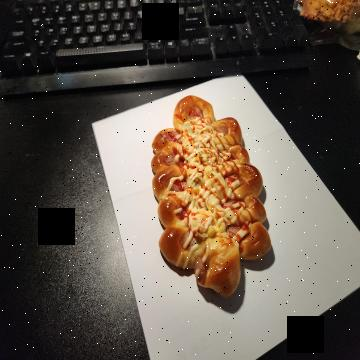pizza_bread: (151, 94, 273, 298)
